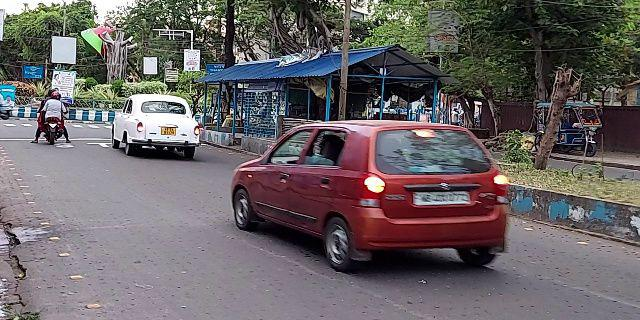Car: (220, 122, 528, 259), (108, 93, 206, 153)
Motorbike: (44, 87, 67, 144)
